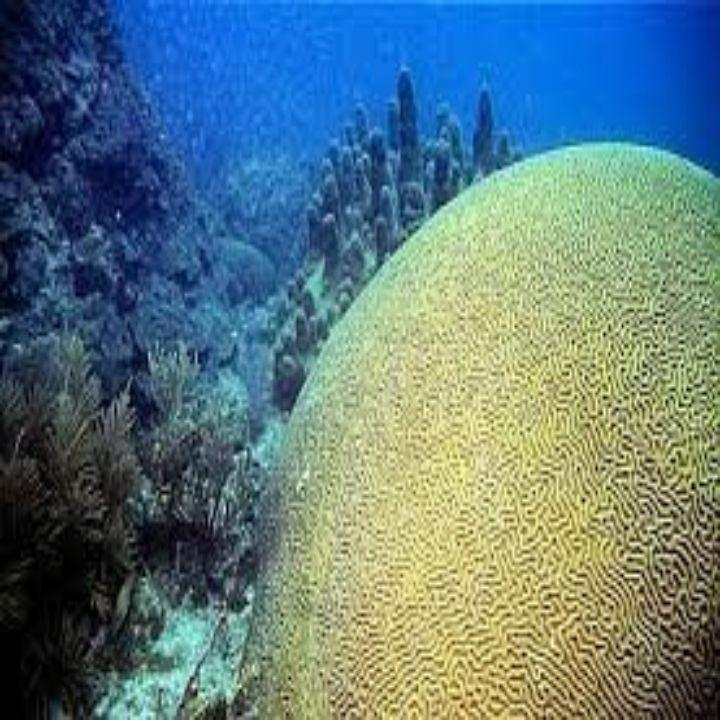Healthy Coral: (245, 128, 712, 719)
